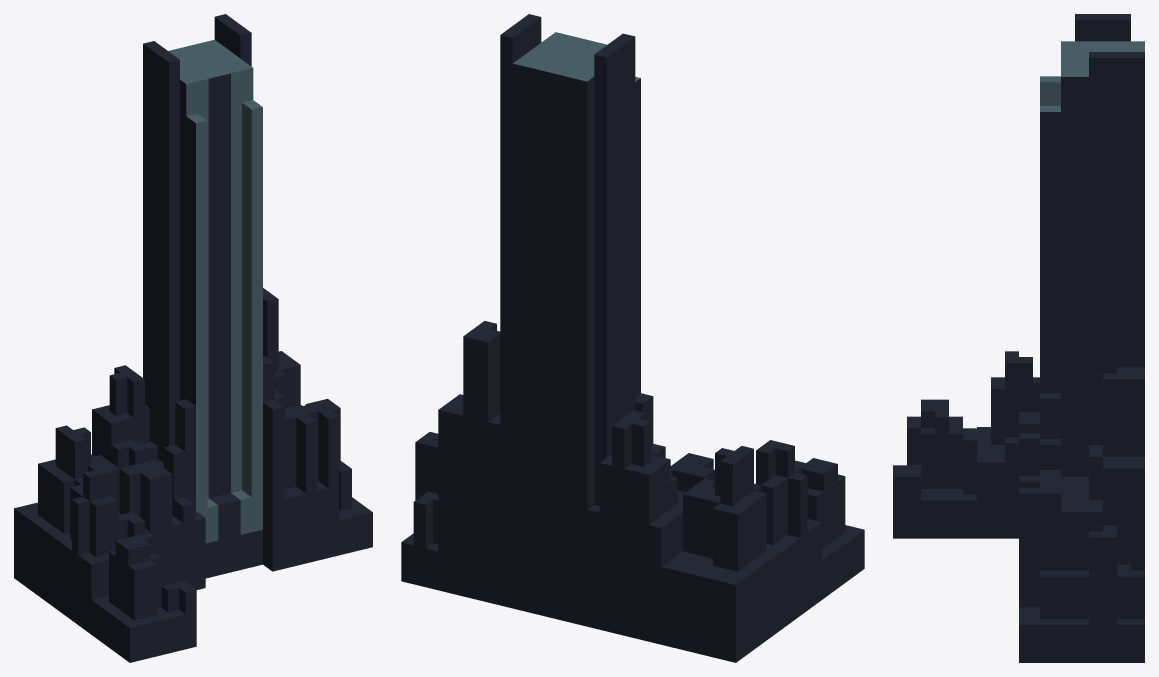
Rendered from tower.fbx.
3 views of the same model, side by side, from view 1: azimuth 30°, elevation 25°; view 2: azimuth 150°, elevation 25°; view 3: azimuth 270°, elevation 25° (orthographic). The views are drawn at different scales.
Parts seen in each view (by area): view 1: tower; view 2: tower; view 3: tower.
Part boxes in pixels (x1=…): tower: x1=14, y1=14, x2=372, y2=662; tower: x1=401, y1=14, x2=864, y2=662; tower: x1=893, y1=14, x2=1144, y2=662.
Bounding box in the file's own units: 900 × 1466 × 600.
